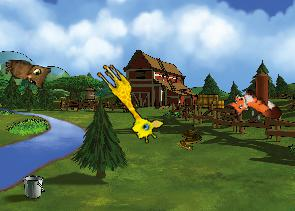fox: (222, 80, 284, 138)
giraffe: (86, 59, 168, 147)
owl: (3, 59, 51, 90)
